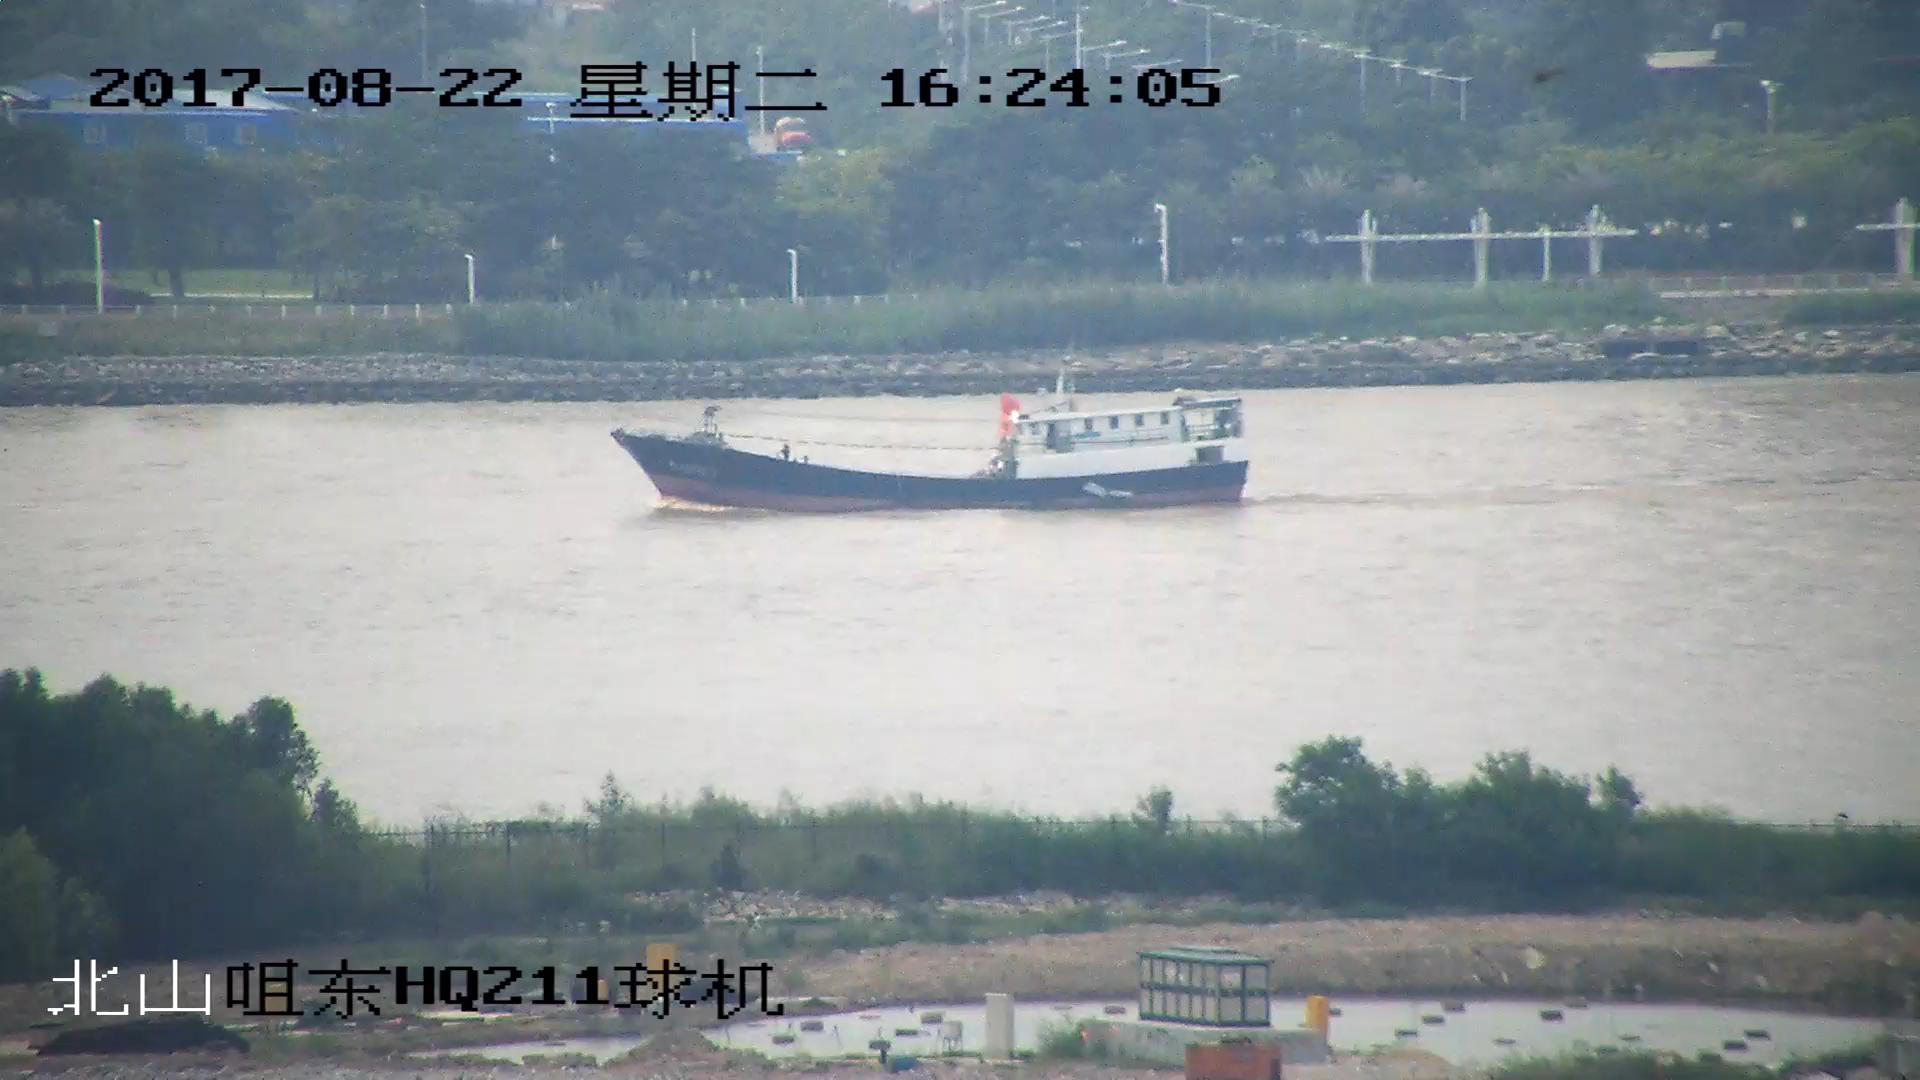fishing boat: (616, 391, 1252, 515)
